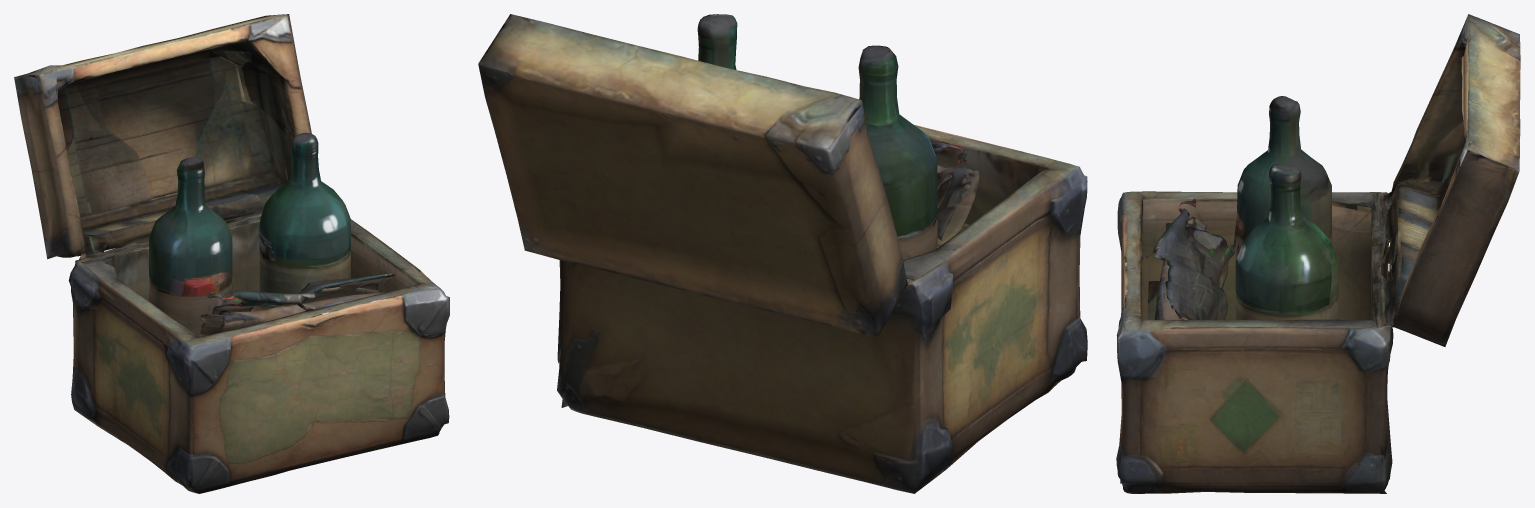
File: A_low_poly_3D_box_des_0317202048_texture.fbx
The picture shows the model from 3 angles, left to right: view 1: azimuth 30°, elevation 25°; view 2: azimuth 150°, elevation 25°; view 3: azimuth 270°, elevation 25°; orthographic projection. The views are drawn at different scales.
Visible parts, largest first — view 1: Mesh1_Mesh1.010; view 2: Mesh1_Mesh1.010; view 3: Mesh1_Mesh1.010.
Part boxes in pixels (x1=…): Mesh1_Mesh1.010: x1=14, y1=14, x2=449, y2=493; Mesh1_Mesh1.010: x1=478, y1=14, x2=1087, y2=493; Mesh1_Mesh1.010: x1=1116, y1=14, x2=1520, y2=493.
Size of the model in its own units: 170 by 189 by 200.
Materials: 1 (1 with a texture image).
